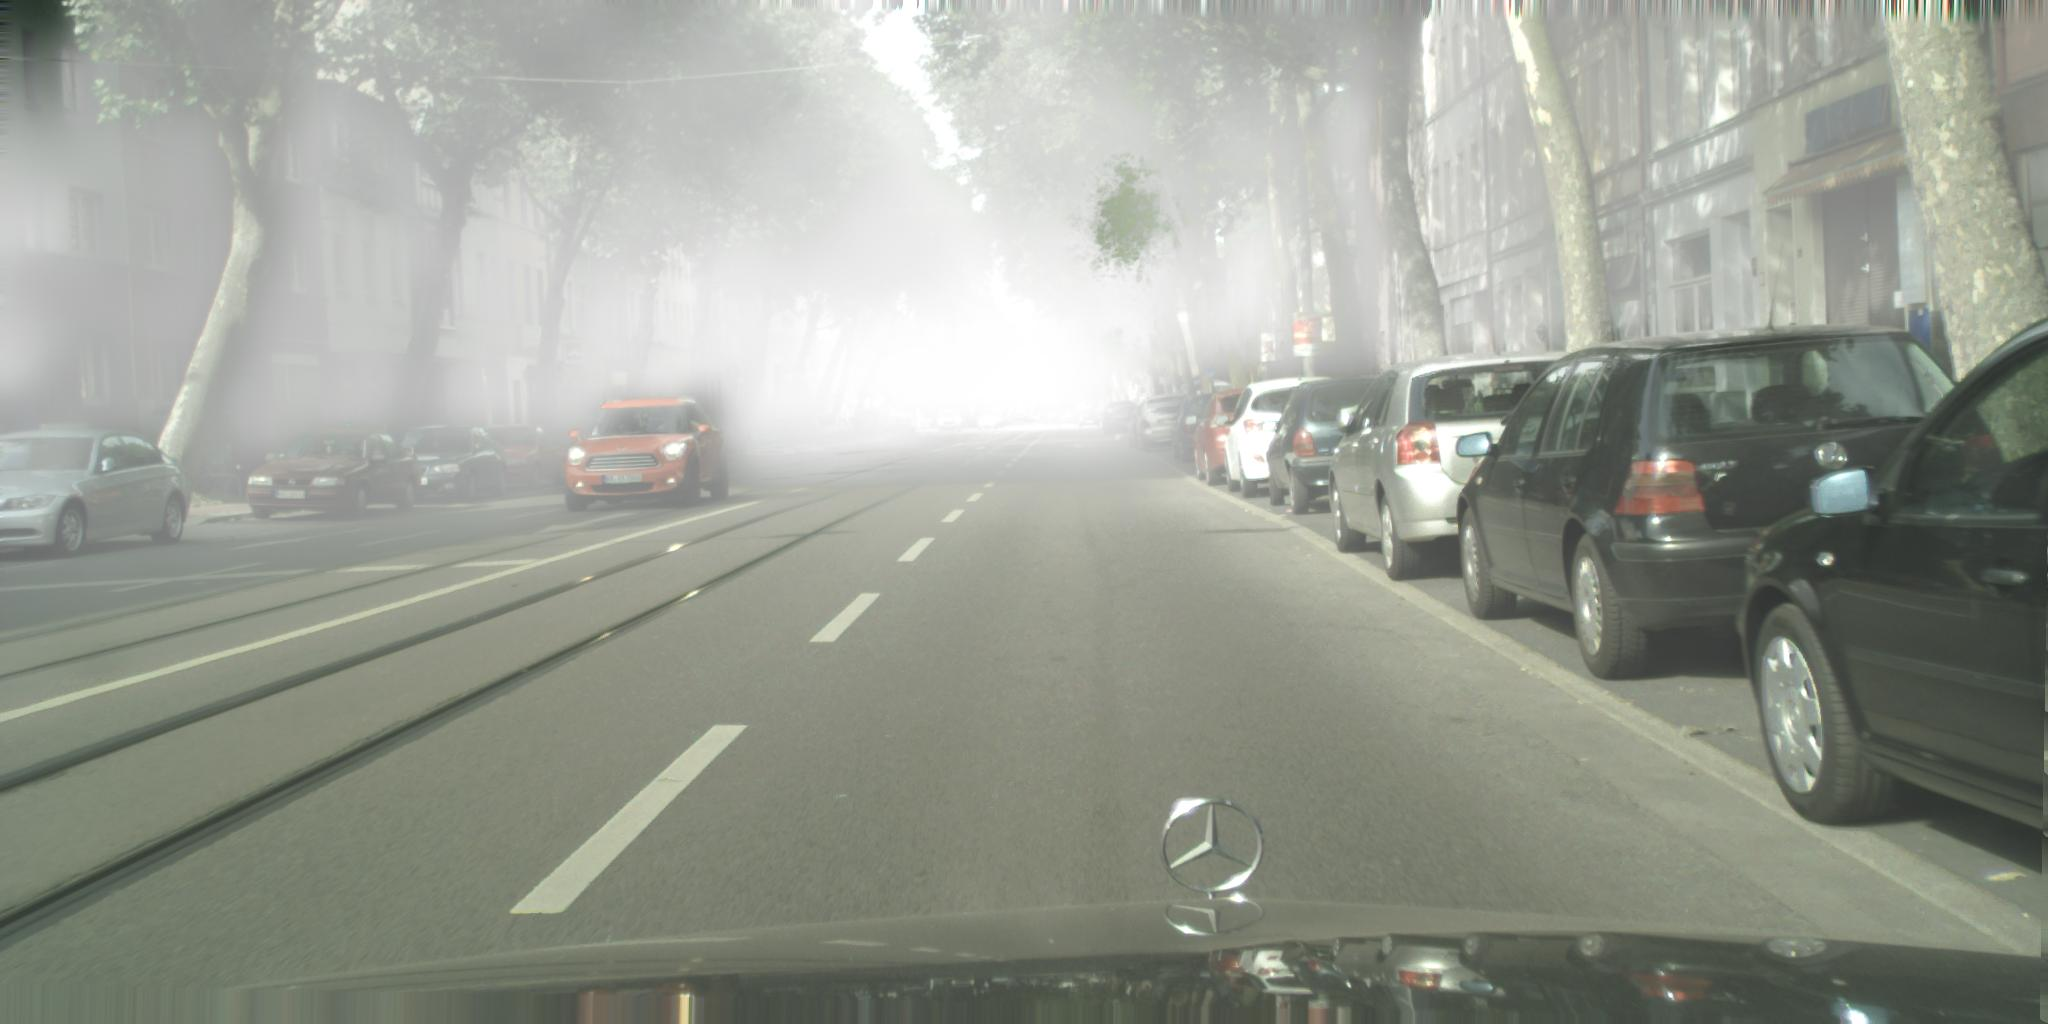bicycle: (192, 441, 253, 498)
car: (1456, 323, 1957, 679), (1737, 315, 2048, 831), (1330, 351, 1567, 583), (1, 428, 193, 558), (566, 398, 730, 515), (1264, 374, 1382, 515), (246, 428, 423, 521), (1215, 377, 1334, 499), (398, 426, 509, 504), (1183, 389, 1246, 488), (482, 424, 571, 491), (1131, 394, 1191, 453), (1169, 393, 1217, 464), (746, 421, 797, 455), (786, 419, 827, 452), (810, 414, 846, 448), (1100, 401, 1134, 436), (856, 410, 889, 441), (1125, 404, 1145, 449), (1112, 406, 1142, 436), (835, 417, 858, 447), (893, 414, 917, 438), (938, 411, 963, 434), (883, 415, 900, 439), (1079, 411, 1100, 428)
